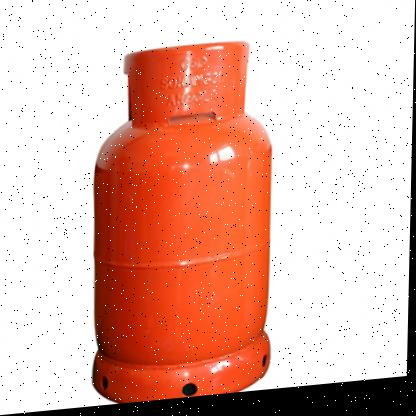gas-tank: (64, 28, 307, 410)
